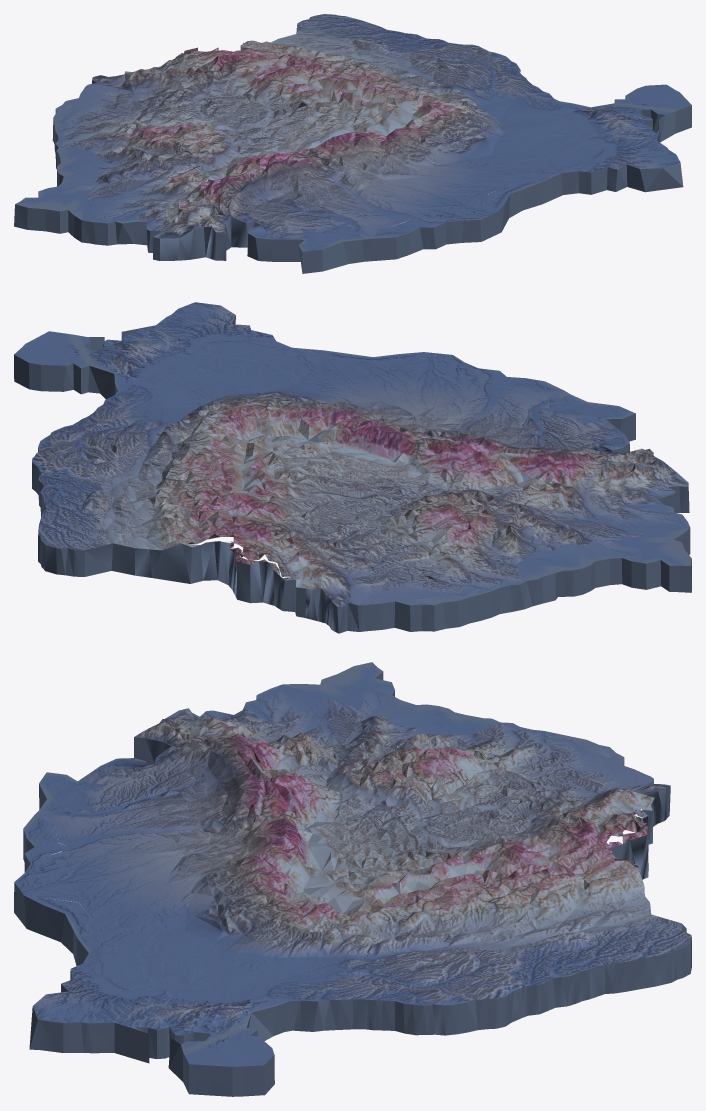
File: romania__low.fbx
3 renders of one model, top to bottom at view 1: azimuth 30°, elevation 25°; view 2: azimuth 150°, elevation 25°; view 3: azimuth 270°, elevation 25°, orthographic. The views are drawn at different scales.
Visible parts, largest first — view 1: ro-plane__low; view 2: ro-plane__low; view 3: ro-plane__low.
Boxes of the visible parts, x1,y1,x2,y2 form: ro-plane__low: [14, 14, 691, 273]; ro-plane__low: [14, 302, 691, 633]; ro-plane__low: [14, 662, 691, 1096].
Size of the model in its own units: 84.27 by 59.57 by 5.76.
